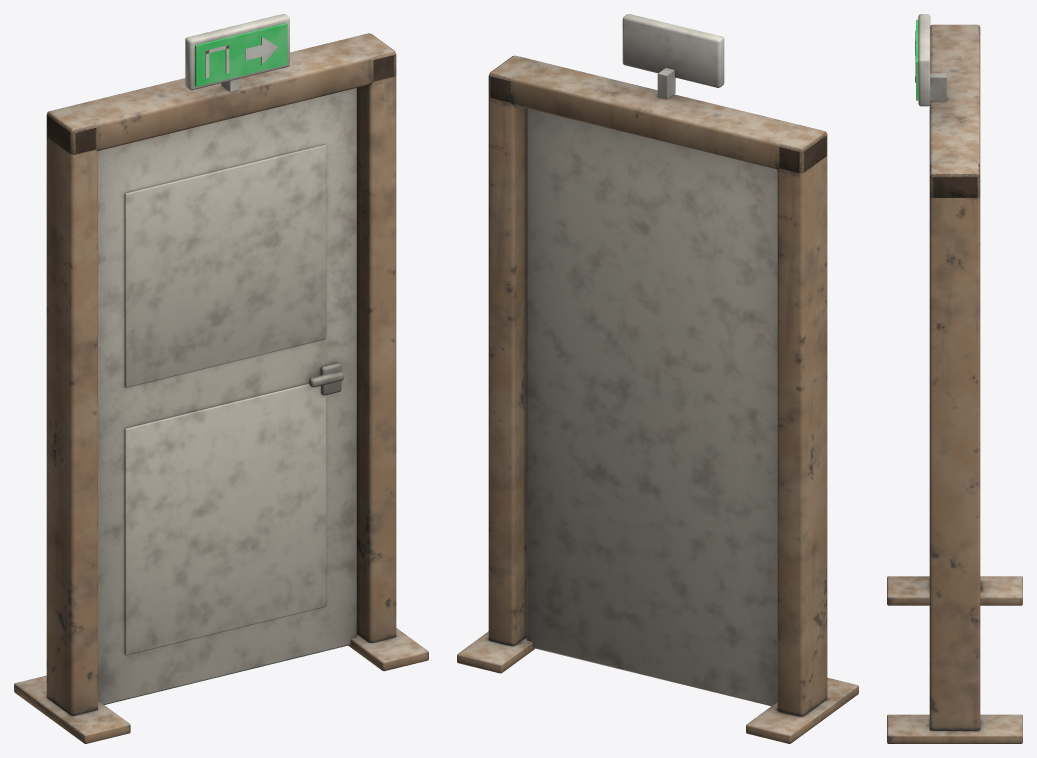
File: door_frame_lone.fbx
The picture shows the model from 3 angles, left to right: view 1: azimuth 30°, elevation 25°; view 2: azimuth 150°, elevation 25°; view 3: azimuth 270°, elevation 25°; orthographic projection. The views are drawn at different scales.
Visible parts, largest first — view 1: Door, Body, Glow; view 2: Door, Body; view 3: Body.
Part boxes in pixels (x1,y1,x2,y2): Door: (98,88,356,704); Body: (14,14,428,743); Glow: (195,23,287,86); Door: (526,108,777,706); Body: (457,14,858,743); Body: (887,14,1022,743).
Size of the model in its own units: 4.45 by 8.16 by 1.6.
Materials: 1 (1 with a texture image).
